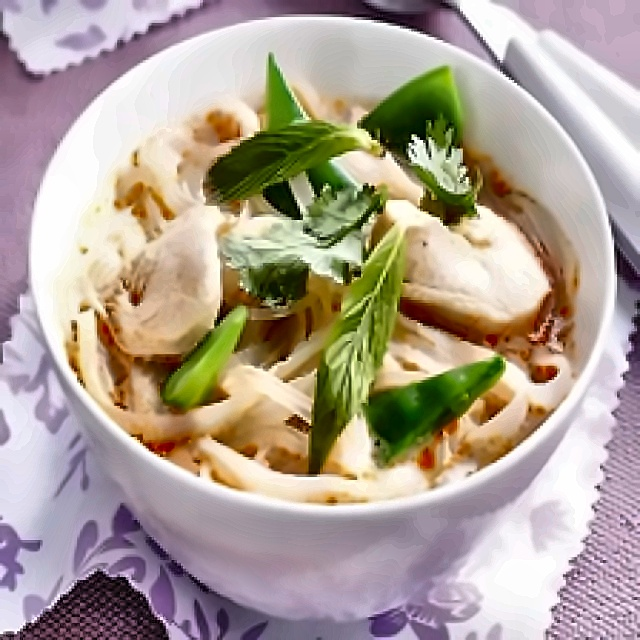cucumber_slice: (162, 303, 248, 403)
noodle: (74, 319, 578, 497)
